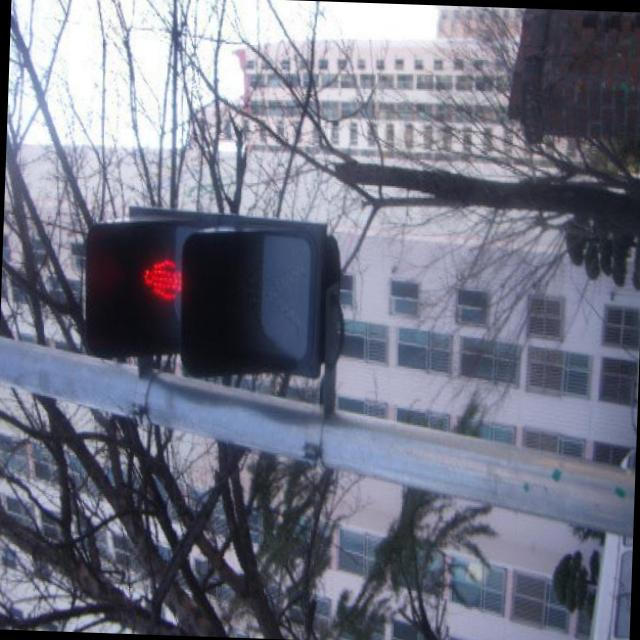red_light: (125, 240, 188, 329)
